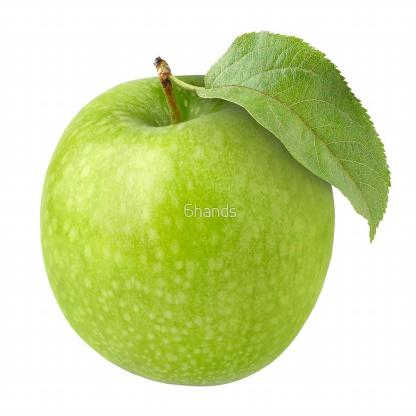Apple leaf: (198, 15, 404, 243)
